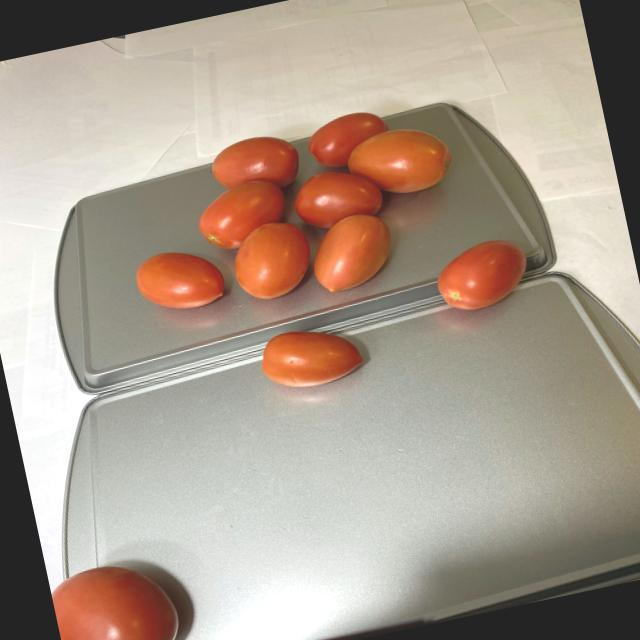tomato: (102, 84, 546, 419), (46, 545, 186, 640)
